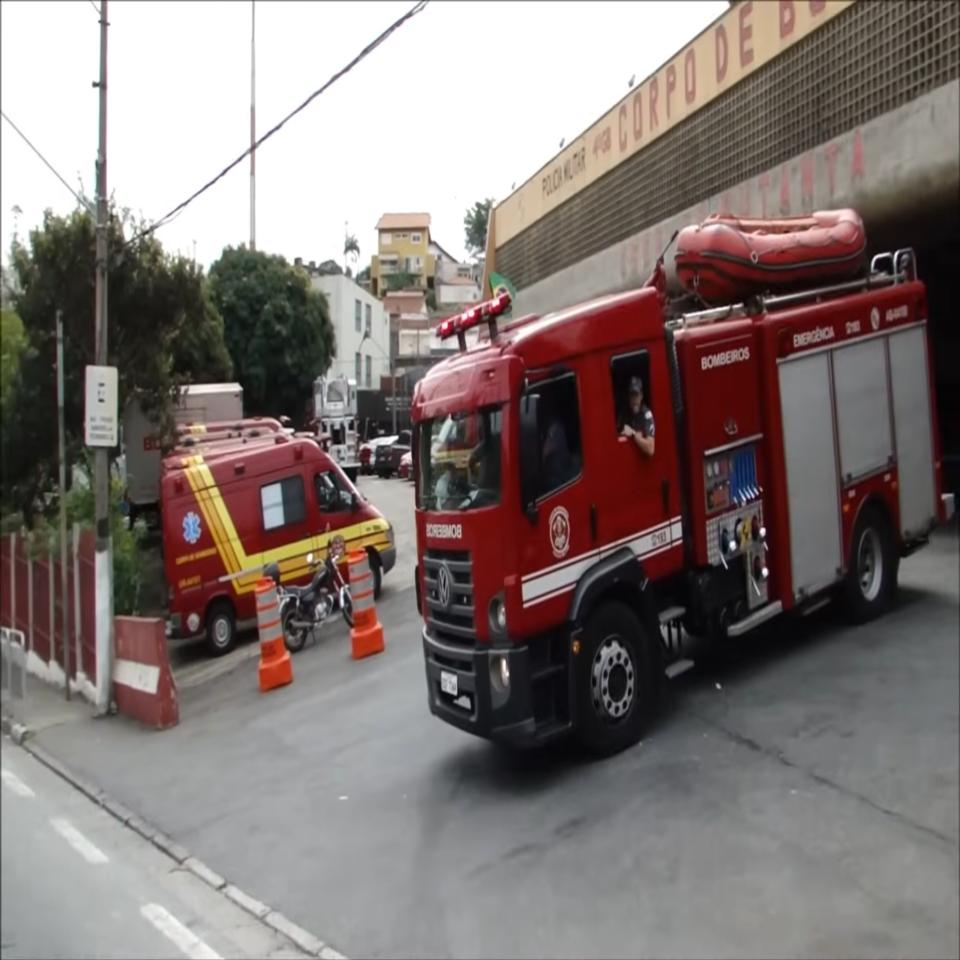viatura: (406, 203, 956, 762)
